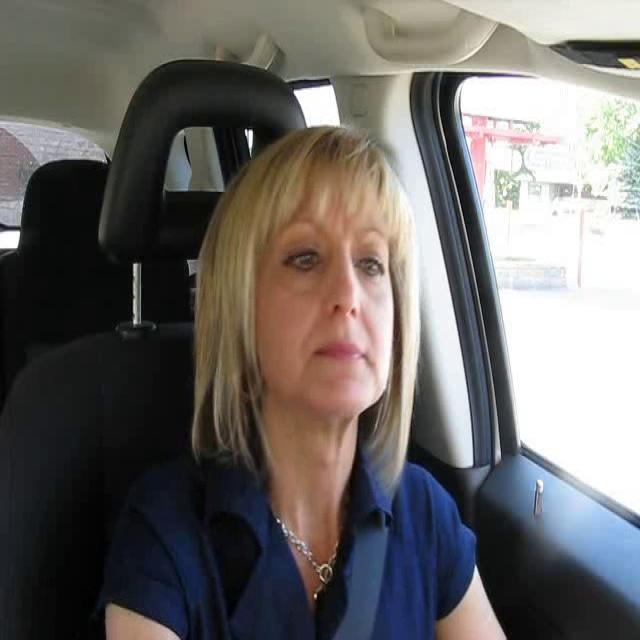close: (307, 335, 373, 366)
